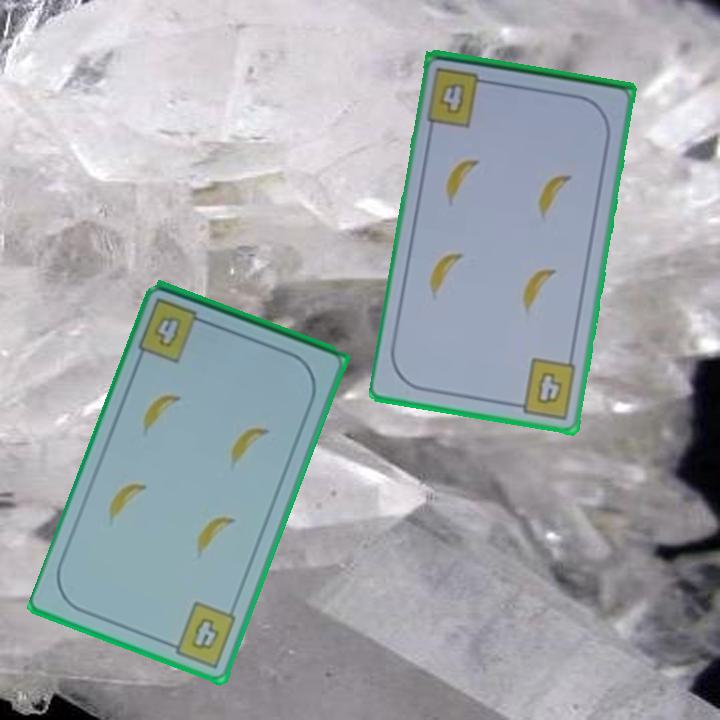4b: (163, 598, 240, 671), (135, 295, 213, 366), (509, 354, 580, 422), (423, 64, 495, 130)
